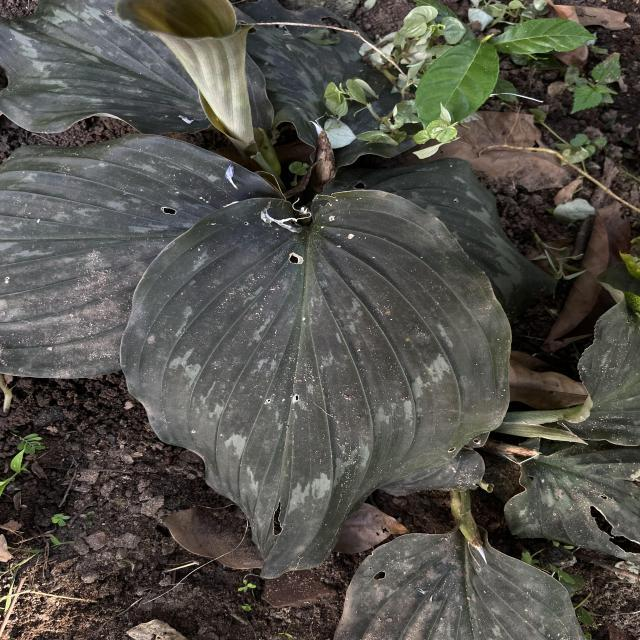Kaempferia galanga linn: (118, 184, 516, 583)
